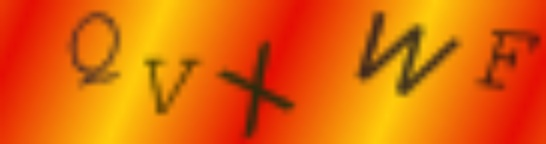F: (474, 24, 545, 96)
Q: (69, 8, 124, 90)
V: (139, 53, 201, 117)
W: (352, 8, 462, 99)
X: (211, 37, 300, 142)
